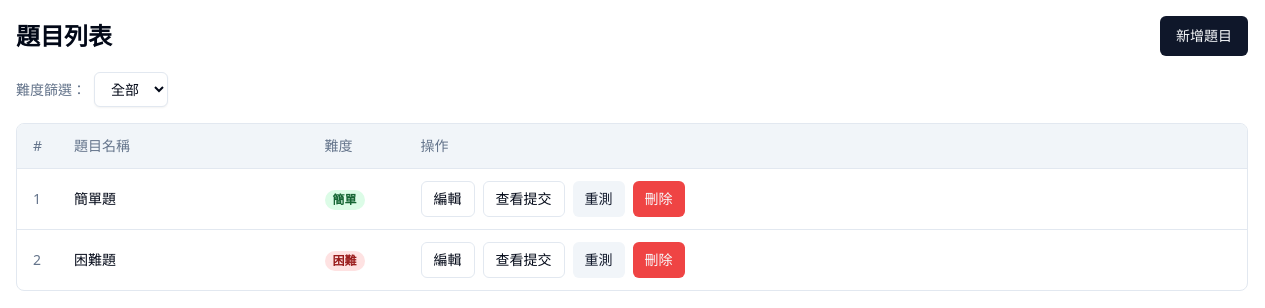
it: ProblemListPage › rejudge shows 已觸發 3 筆重測 from 202 response
Expected: the text "簡單題" is shown, x1=58 y1=168 x2=308 y2=230
Click the button "重測" in the row of "簡單題" at (598, 199), box x1=572 y1=181 x2=624 y2=217
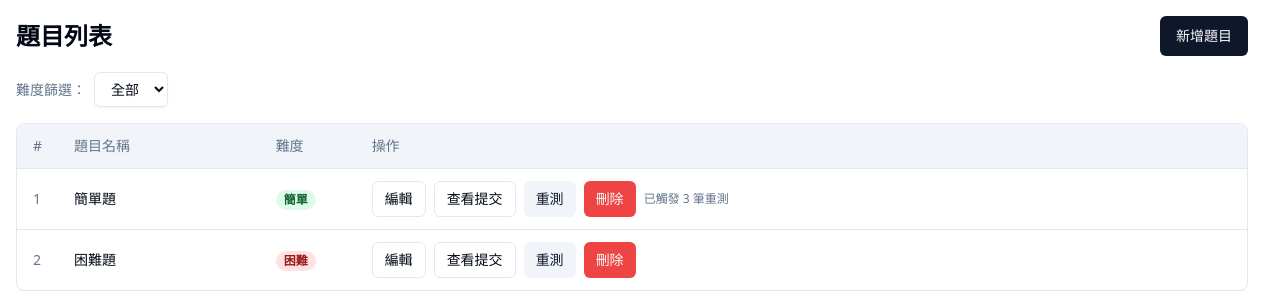
Result: the text "已觸發 3 筆重測" is shown at x1=644 y1=191 x2=729 y2=207
